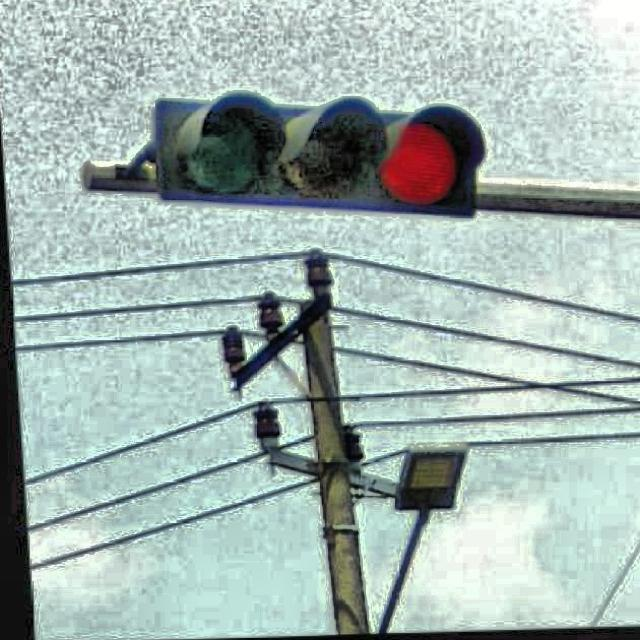red: (154, 88, 496, 220)
